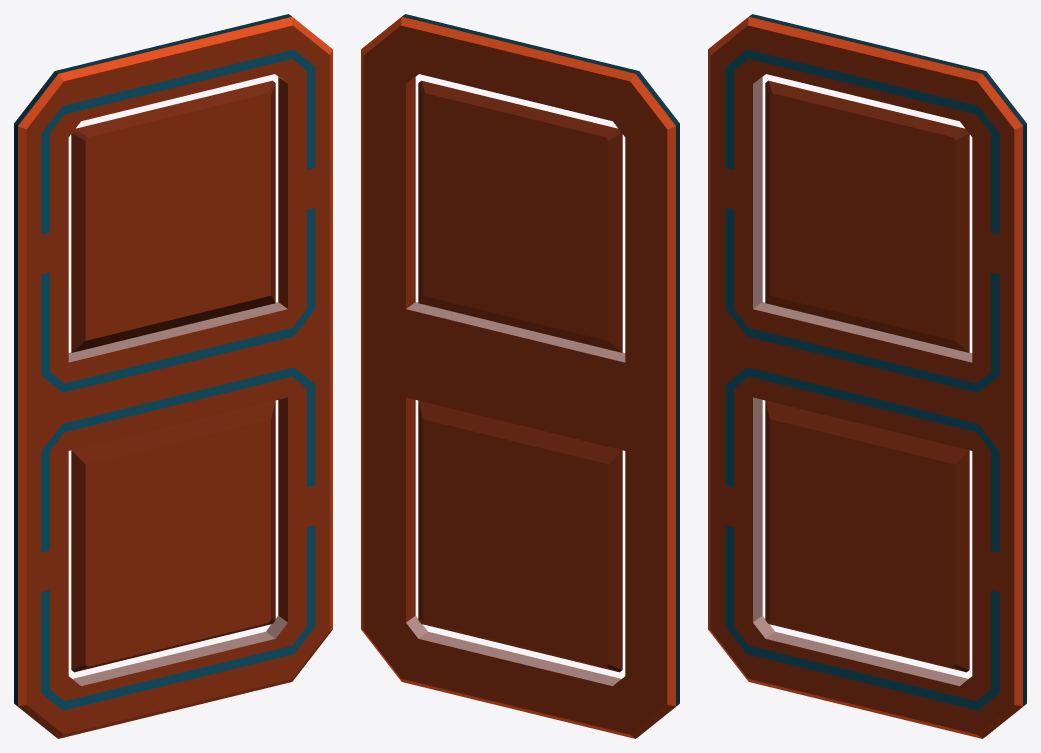
Rendered from FloatingWall.fbx.
3 renders of one model, left to right at view 1: azimuth 30°, elevation 25°; view 2: azimuth 150°, elevation 25°; view 3: azimuth 330°, elevation 25°, orthographic.
Visible parts, largest first — view 1: FloatingWall; view 2: FloatingWall; view 3: FloatingWall.
Boxes of the visible parts, x1,y1,x2,y2 form: FloatingWall: (14, 14, 332, 738); FloatingWall: (361, 14, 679, 738); FloatingWall: (708, 14, 1026, 738).
Bounding box in the file's own units: 3.74 × 0.201 × 7.54.
